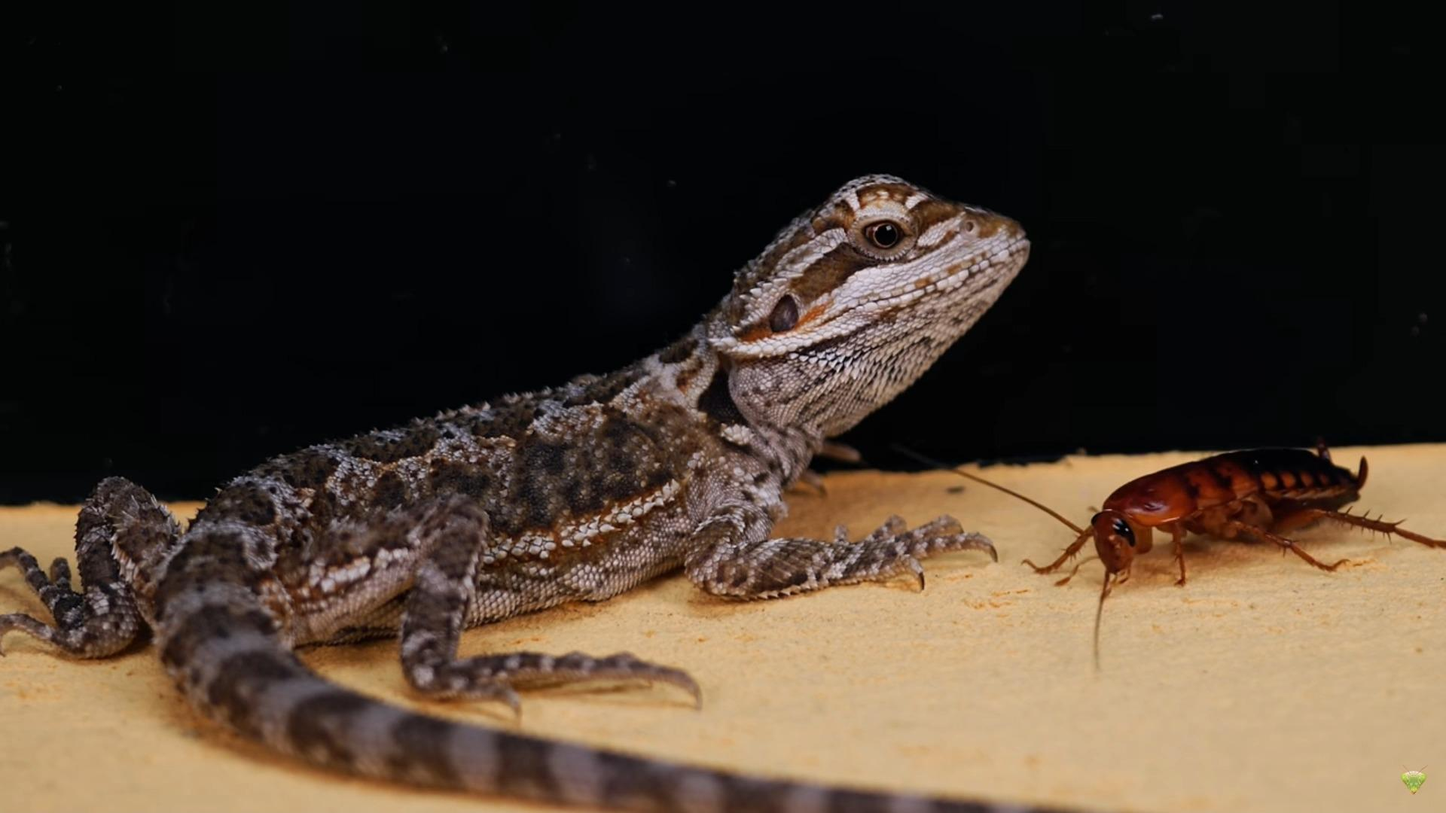cockroach: (1029, 436, 1446, 623)
lizard: (30, 161, 1030, 813)
